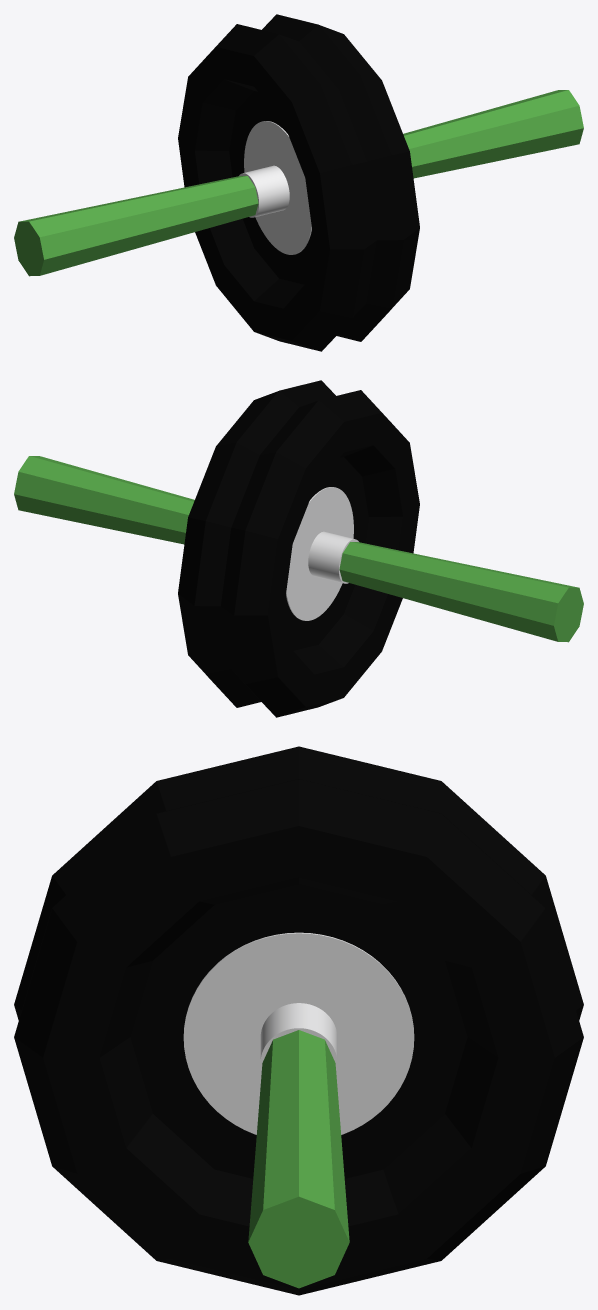
The picture shows the model from 3 angles, top to bottom: view 1: azimuth 30°, elevation 25°; view 2: azimuth 150°, elevation 25°; view 3: azimuth 270°, elevation 25°; orthographic projection. The views are drawn at different scales.
Parts seen in each view (by area): view 1: outer_a, green_shaft, grey_centre.001; view 2: outer_a, green_shaft, grey_centre.001; view 3: outer_a, grey_centre, green_shaft.
Boxes of the visible parts, box(x1,y1,x2,y2) form: outer_a: box(178, 14, 419, 351); green_shaft: box(14, 90, 583, 276); grey_centre.001: box(239, 121, 311, 254); outer_a: box(178, 380, 419, 717); green_shaft: box(14, 456, 583, 642); grey_centre.001: box(286, 487, 358, 620); outer_a: box(14, 746, 583, 1295); grey_centre: box(183, 932, 414, 1134); green_shaft: box(248, 1030, 349, 1288).
Bounding box in the file's own units: 1.2 × 0.6522 × 0.6522.
